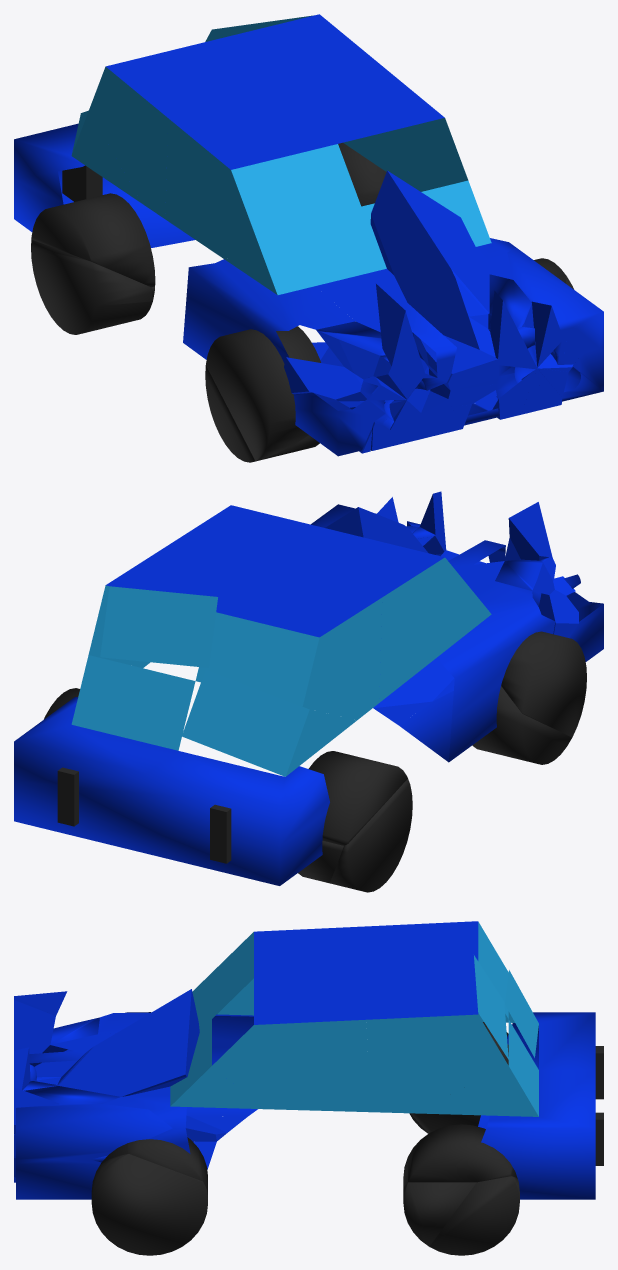
File: broken_blue_car.fbx
The picture shows the model from 3 angles, top to bottom: view 1: azimuth 30°, elevation 25°; view 2: azimuth 150°, elevation 25°; view 3: azimuth 270°, elevation 25°; orthographic projection. The views are drawn at different scales.
Visible parts, largest first — view 1: Frame_cell.062, Frame_cell.052, Wheels_cell.001, Frame_cell.025, WindshieldFronts_cell.004, WindshieldFronts_cell, WindShieldSides_cell.004, Wheels_cell.007, Wheels_cell.004, WindShieldSides_cell.005, Frame_cell.018, WindShieldSides_cell.006 (+28 smaller); view 2: Frame_cell.018, Frame_cell.062, Frame_cell.025, WindshieldFronts_cell.001, WindshieldFronts_cell.003, WindshieldFronts_cell.007, WindShieldSides_cell.004, WindshieldFronts_cell.005, WindShieldSides_cell.005, Wheels_cell.001, Wheels_cell.004, Wheels_cell.007 (+17 smaller); view 3: Frame_cell.062, Frame_cell.018, WindShieldSides_cell.006, WindShieldSides_cell.007, Wheels_cell.006, Frame_cell.052, Frame_cell.043, Wheels_cell.003, Wheels_cell, WindShieldSides_cell.003, Frame_cell.026, Wheels_cell.002 (+26 smaller).
Part boxes in pixels (box(x1,y1,x2,y2)): Frame_cell.062: box(106, 14, 444, 169); Frame_cell.052: box(370, 170, 495, 357); Wheels_cell.001: box(206, 326, 320, 461); Frame_cell.025: box(183, 259, 354, 363); WindshieldFronts_cell.004: box(231, 144, 361, 232); WindshieldFronts_cell: box(254, 206, 384, 294); WindShieldSides_cell.004: box(165, 118, 254, 259); Wheels_cell.007: box(31, 239, 152, 334); Wheels_cell.004: box(31, 193, 155, 287); WindShieldSides_cell.005: box(88, 66, 168, 218); Frame_cell.018: box(14, 123, 195, 247); WindShieldSides_cell.006: box(379, 118, 468, 191); Frame_cell.018: box(14, 697, 329, 885); Frame_cell.062: box(106, 505, 444, 637); Frame_cell.025: box(399, 581, 555, 762); WindshieldFronts_cell.001: box(181, 669, 309, 776); WindshieldFronts_cell.003: box(71, 655, 195, 750); WindshieldFronts_cell.007: box(100, 586, 217, 667); WindShieldSides_cell.004: box(379, 557, 467, 702); WindshieldFronts_cell.005: box(195, 612, 319, 706); WindShieldSides_cell.005: box(302, 598, 382, 720); Wheels_cell.001: box(501, 631, 586, 737); Wheels_cell.004: box(308, 751, 407, 845); Wheels_cell.007: box(329, 779, 412, 892); Frame_cell.062: box(254, 921, 478, 1024); Frame_cell.018: box(478, 1012, 595, 1199); WindShieldSides_cell.006: box(212, 1020, 371, 1112); WindShieldSides_cell.007: box(366, 1014, 508, 1113); Wheels_cell.006: box(91, 1154, 207, 1255); Frame_cell.052: box(57, 989, 199, 1096); Frame_cell.043: box(16, 1104, 172, 1159); Wheels_cell.003: box(403, 1124, 517, 1189); Wheels_cell: box(429, 1176, 519, 1255); WindShieldSides_cell.003: box(412, 1066, 538, 1116); Frame_cell.026: box(16, 1159, 101, 1199); Wheels_cell.002: box(403, 1182, 476, 1246).
Size of the model in its own units: 830 by 647 by 1499.
